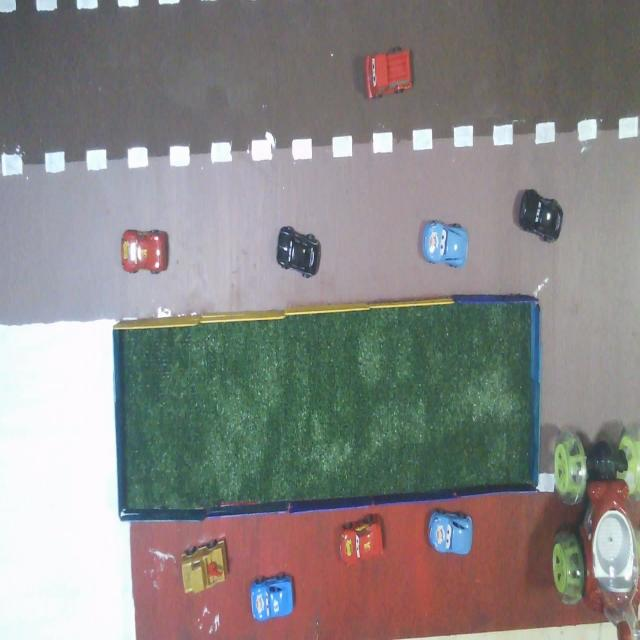emergency car: (552, 430, 639, 639)
small cars: (365, 47, 412, 98), (182, 540, 227, 593), (519, 190, 562, 242), (277, 226, 320, 277), (340, 515, 382, 565), (423, 221, 468, 267), (121, 230, 168, 273), (251, 574, 293, 621), (429, 511, 472, 555)
